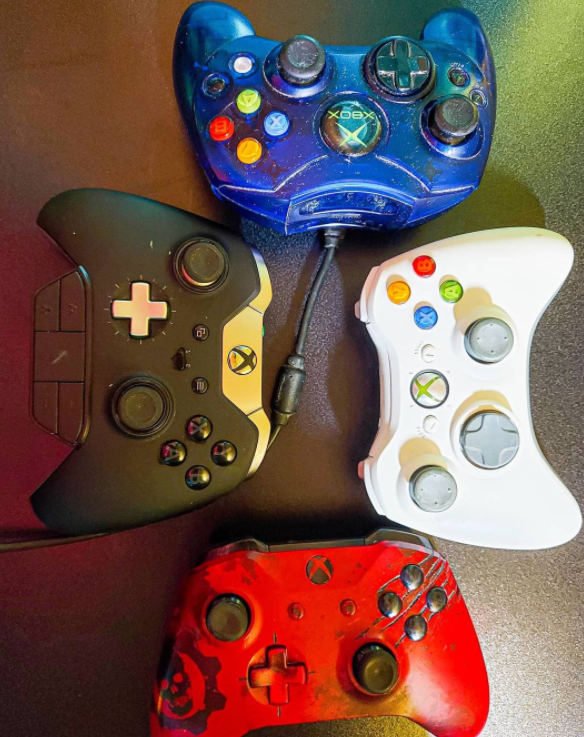gamingconsole: (38, 189, 272, 539), (357, 229, 584, 557), (172, 5, 492, 225), (158, 541, 489, 737)
